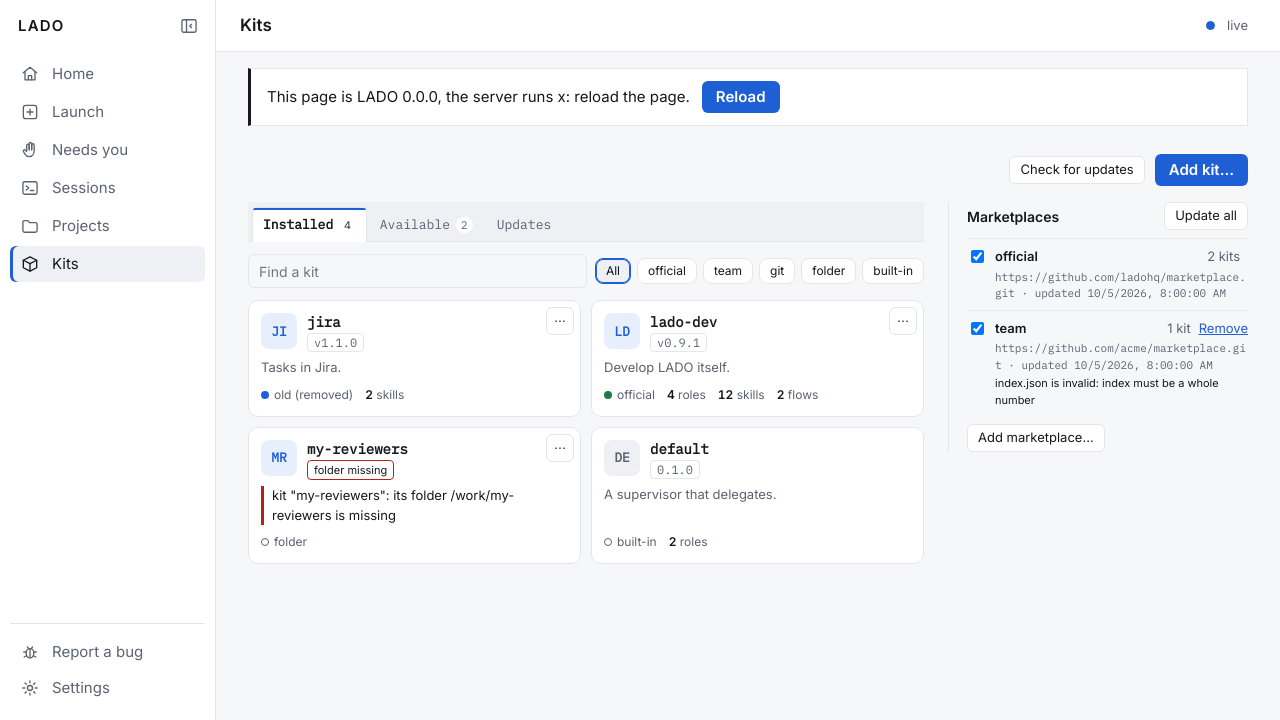
Scenario: Copy address copies the kit's address and says so on the card
This screenshot has width=1280, height=720.
Expected: the list item "lado-dev" is shown, [591,300,924,416]
Step 1. Click the button named "Actions for lado-dev" → coordinates (903, 321), box [889,307,917,335]
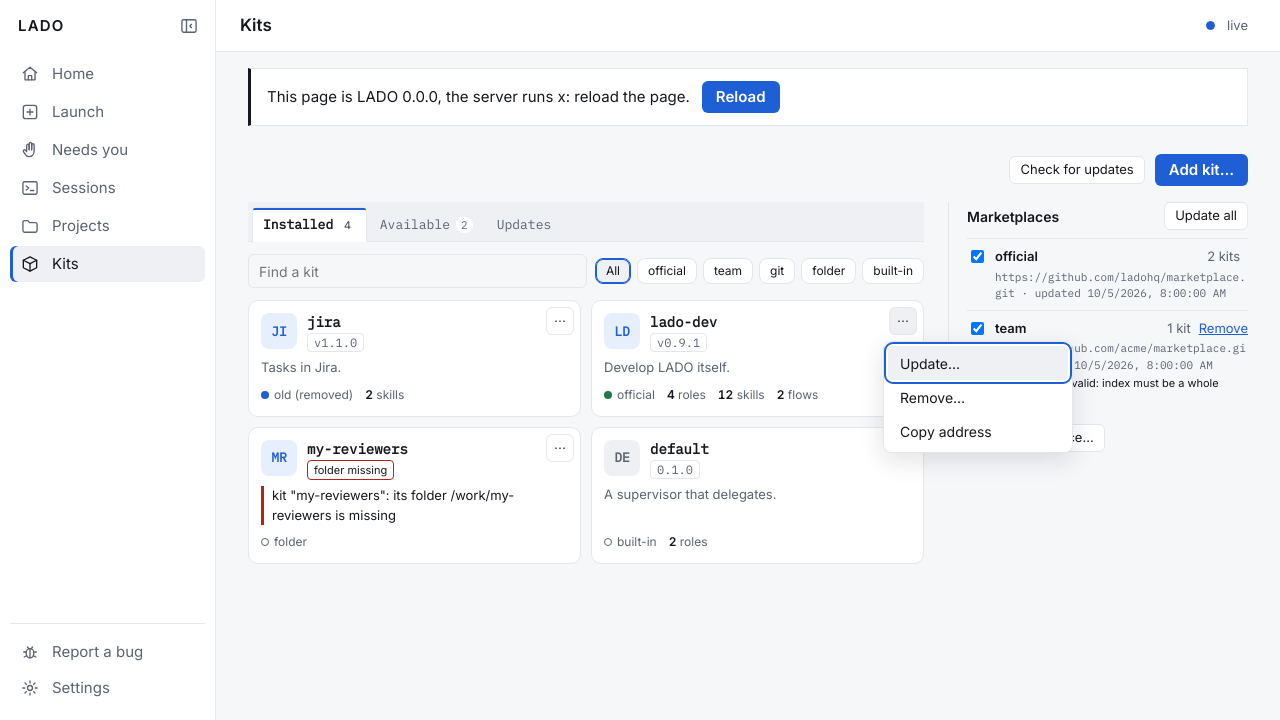
Step 2. Click the menu item "Copy address" → coordinates (978, 431), box [888,414,1068,448]
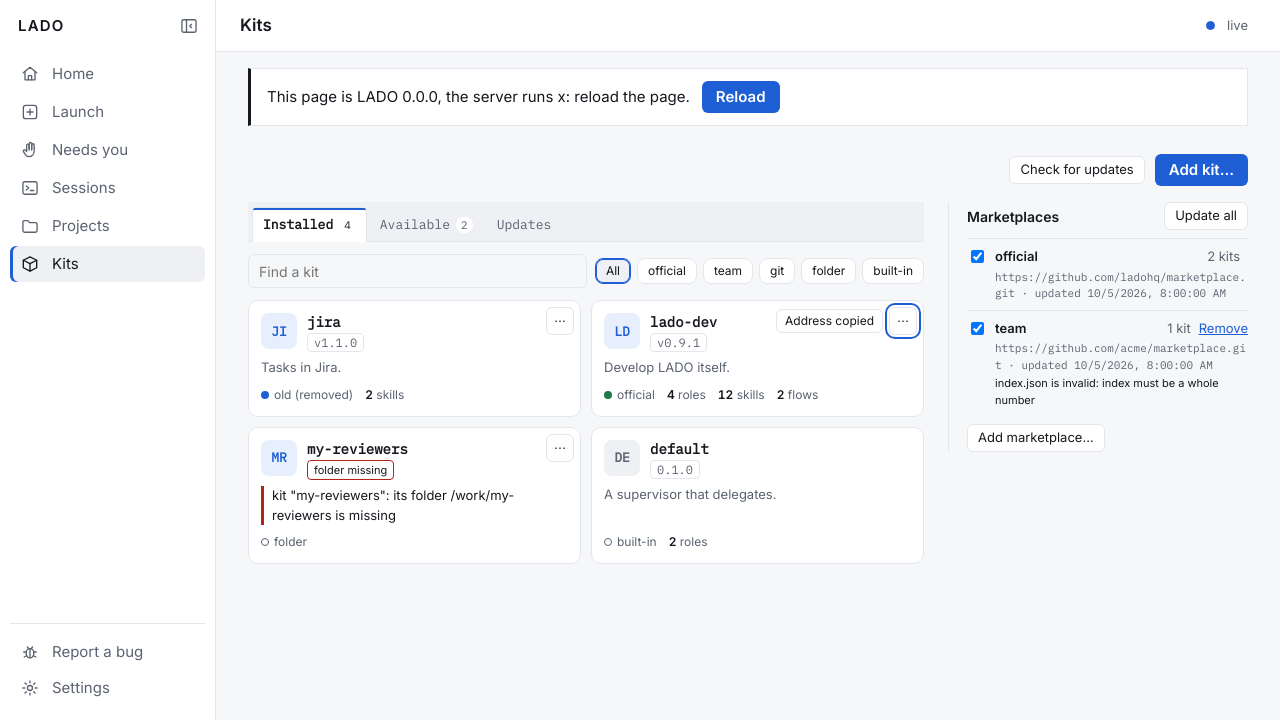
Result: the message "Address copied" is shown at [776,309,883,333]
Result: the menu is gone
Step 3. Click the button "⋯" in the row of "MR" → coordinates (560, 448), box [546,434,574,462]
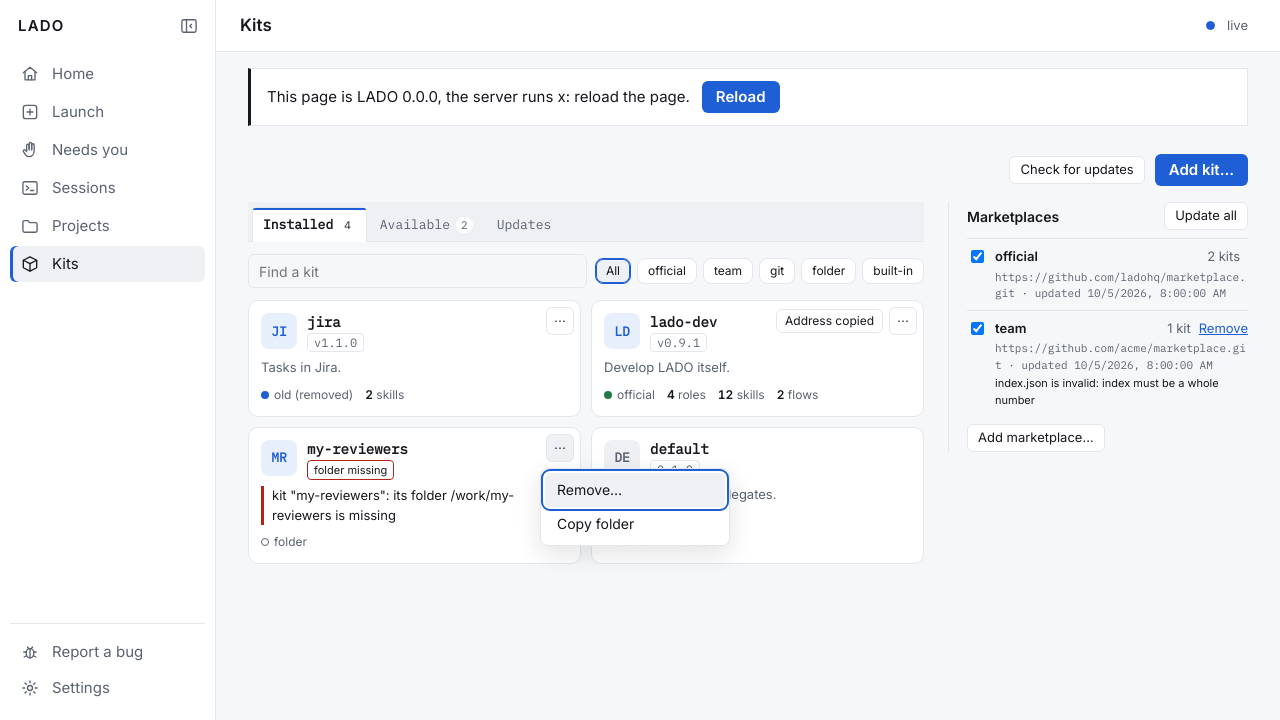
Step 4. Click the menu item "Copy folder" → coordinates (635, 524), box [545,506,725,540]
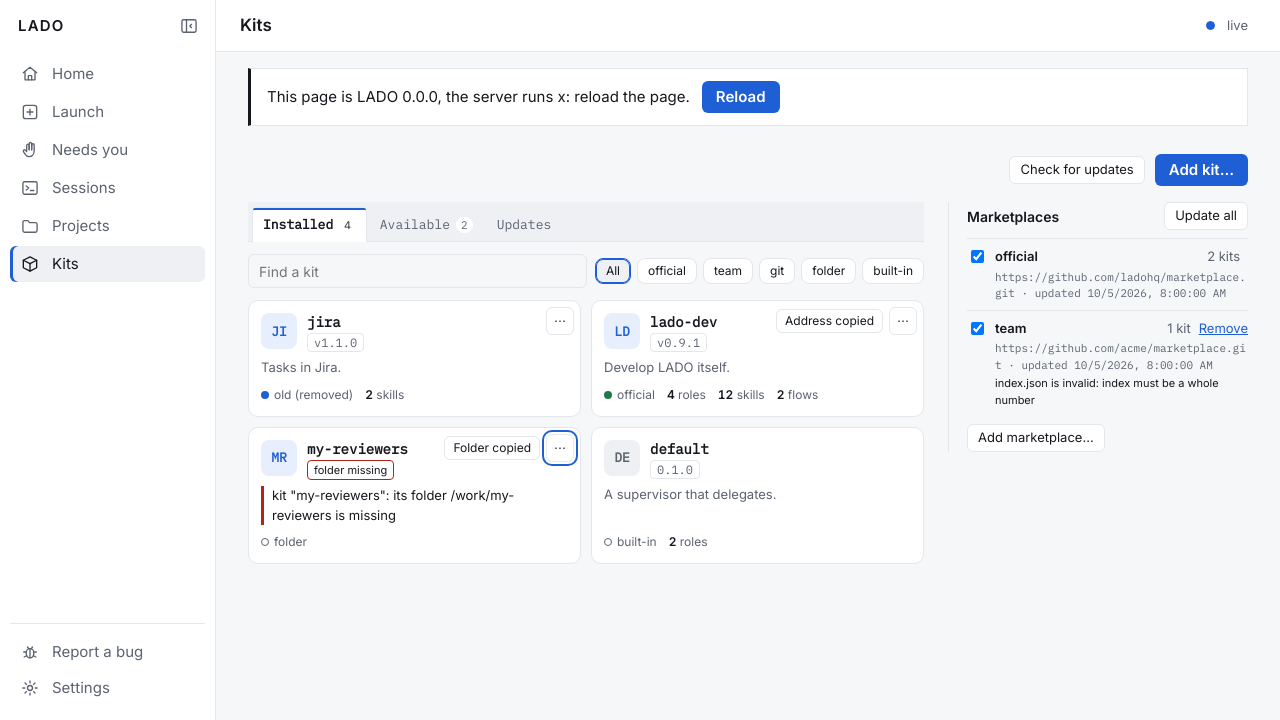
Result: the message "Folder copied" is shown at [444,436,540,460]
